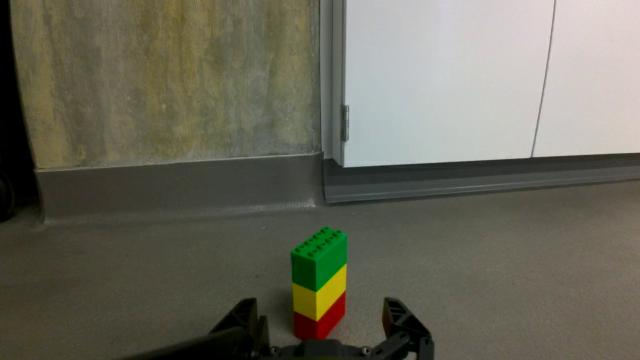lego: (286, 221, 351, 346)
